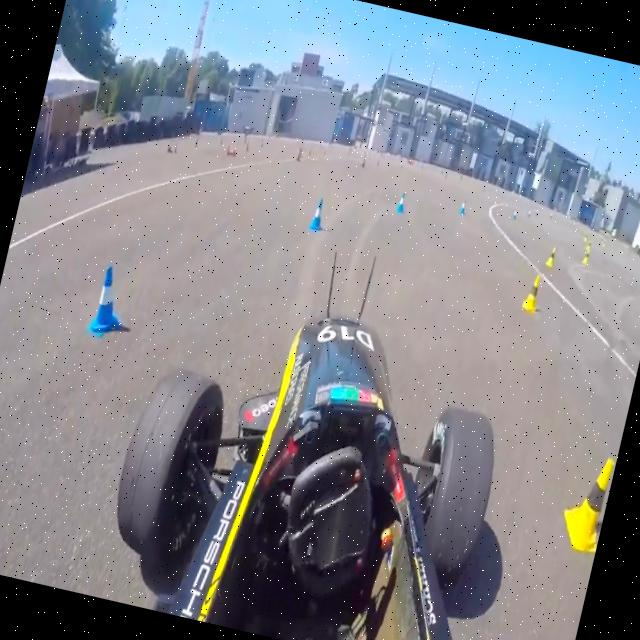blue_cone: (84, 256, 131, 334), (308, 194, 334, 236), (391, 188, 410, 222), (458, 190, 472, 214)
yellow_cone: (558, 446, 618, 550), (516, 268, 544, 315), (542, 236, 558, 274)
